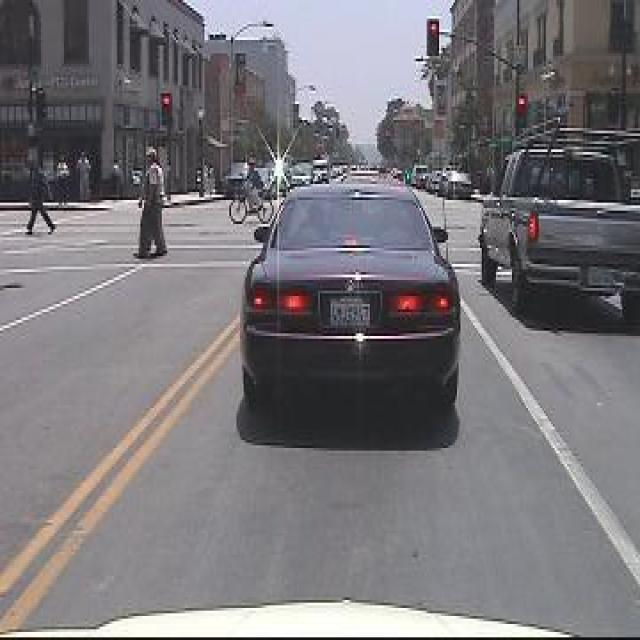car_back: (234, 171, 464, 427)
